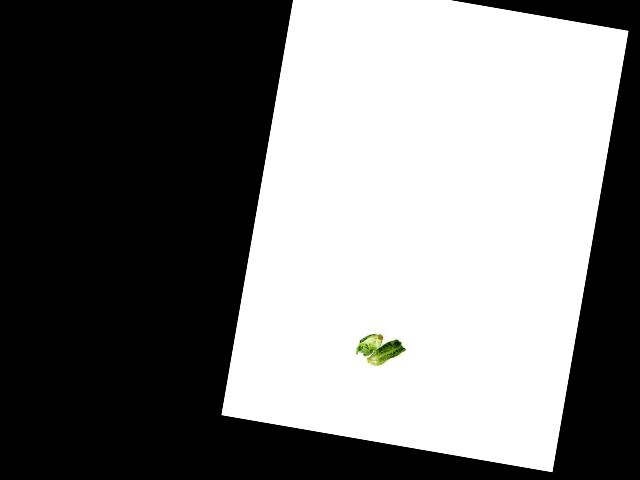lettuce: (352, 324, 406, 370)
